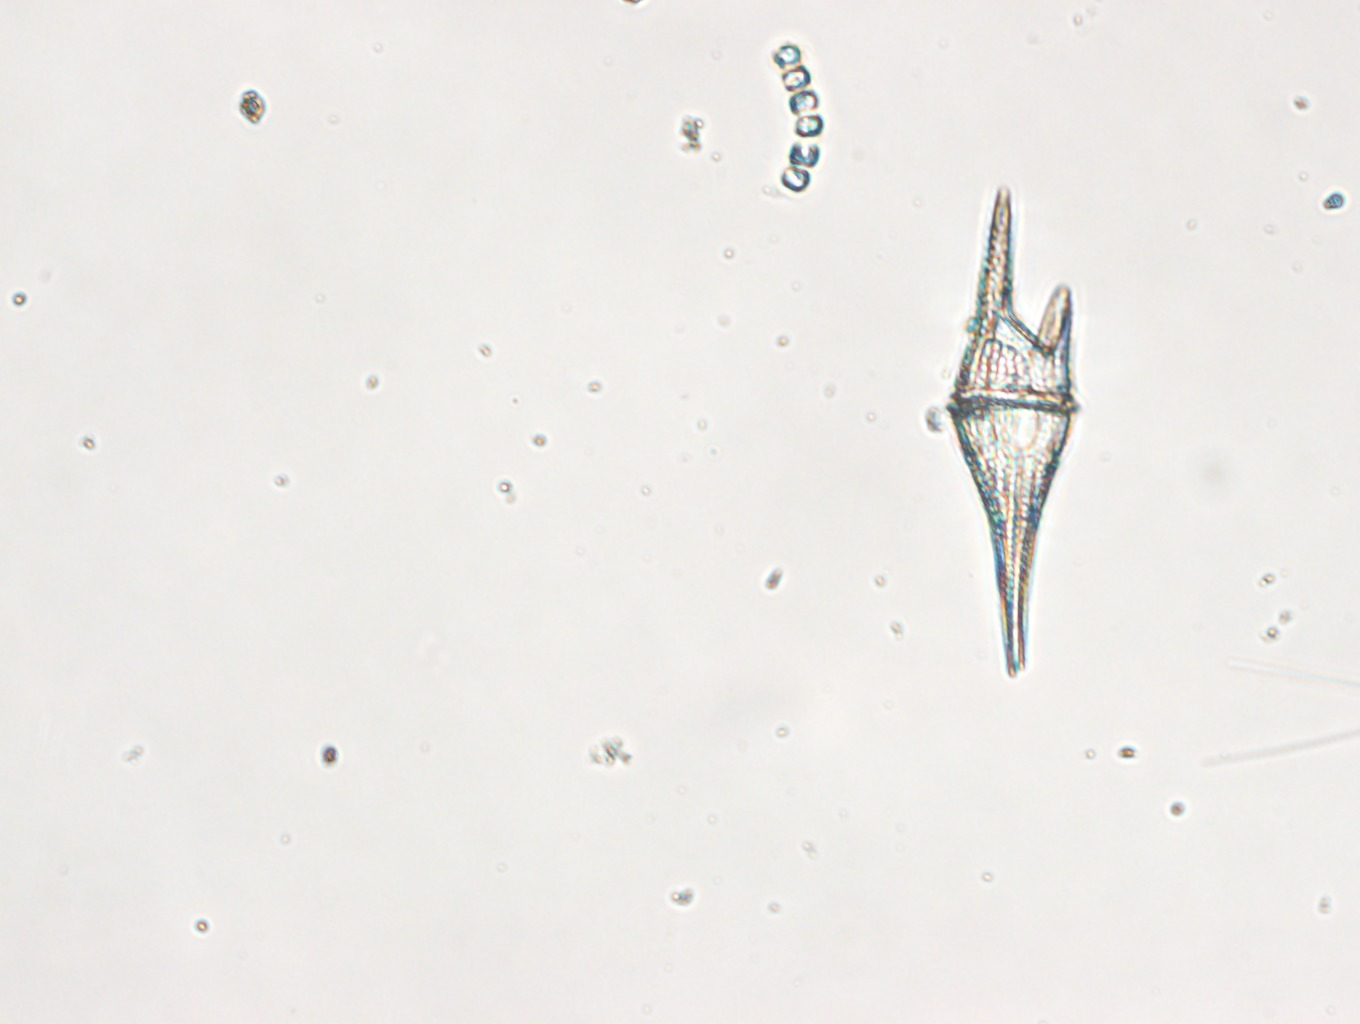ceratium furca: (943, 188, 1080, 675)
skeletonema: (770, 42, 824, 195)
